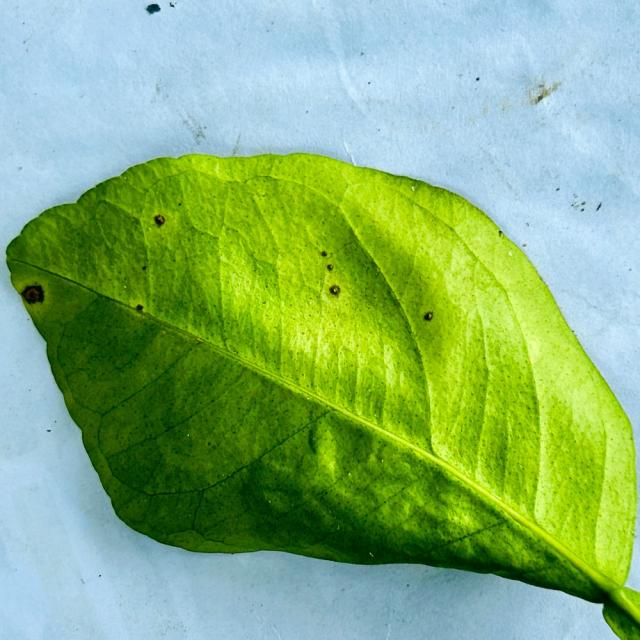Anthracnose: (21, 284, 45, 305), (147, 213, 171, 233), (329, 285, 340, 296), (422, 311, 433, 321), (135, 304, 144, 314), (326, 263, 334, 271), (320, 249, 328, 257)
Lemon: (5, 153, 639, 639)
